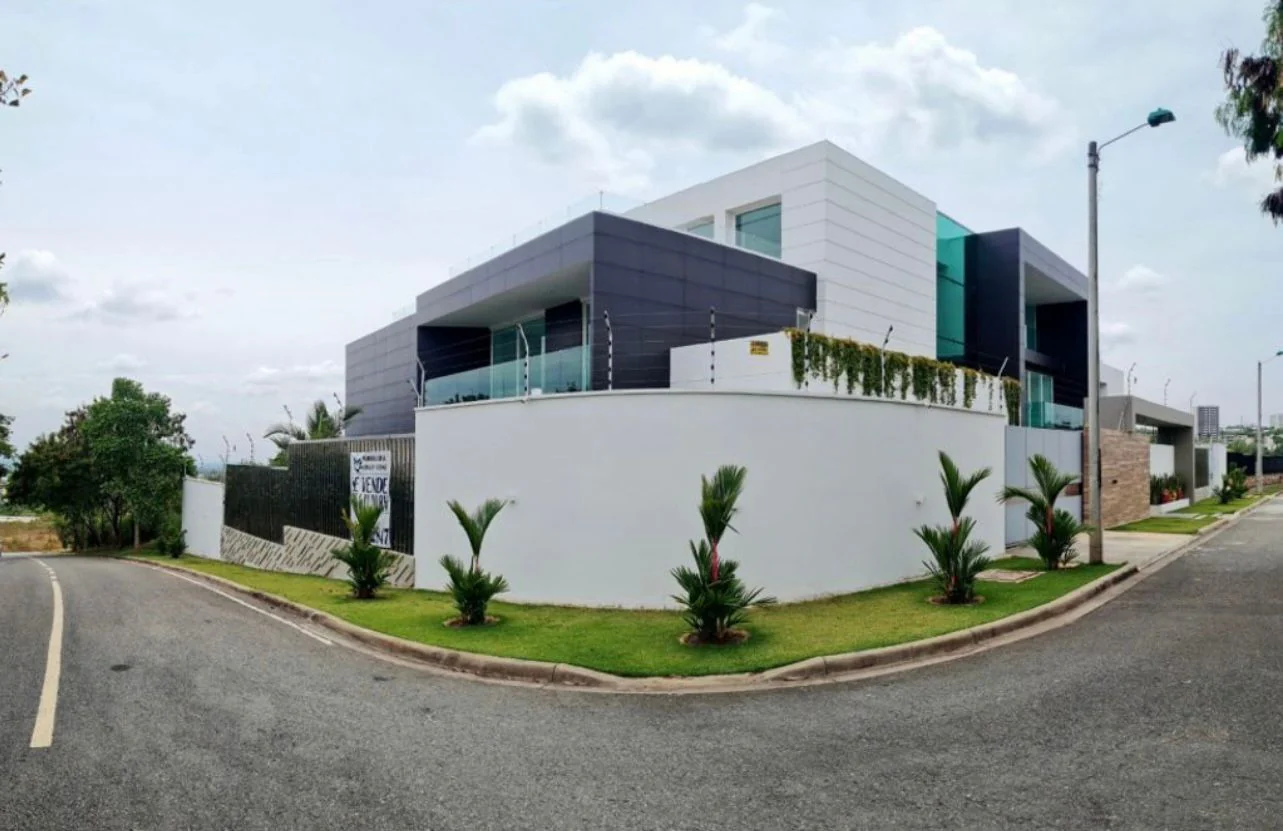House: (206, 160, 1135, 605)
